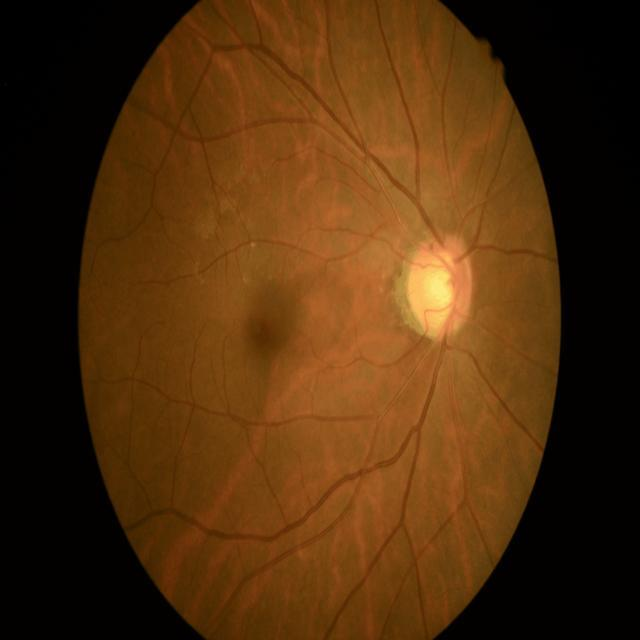cup: (420, 256, 458, 325)
disk: (406, 235, 474, 338)
